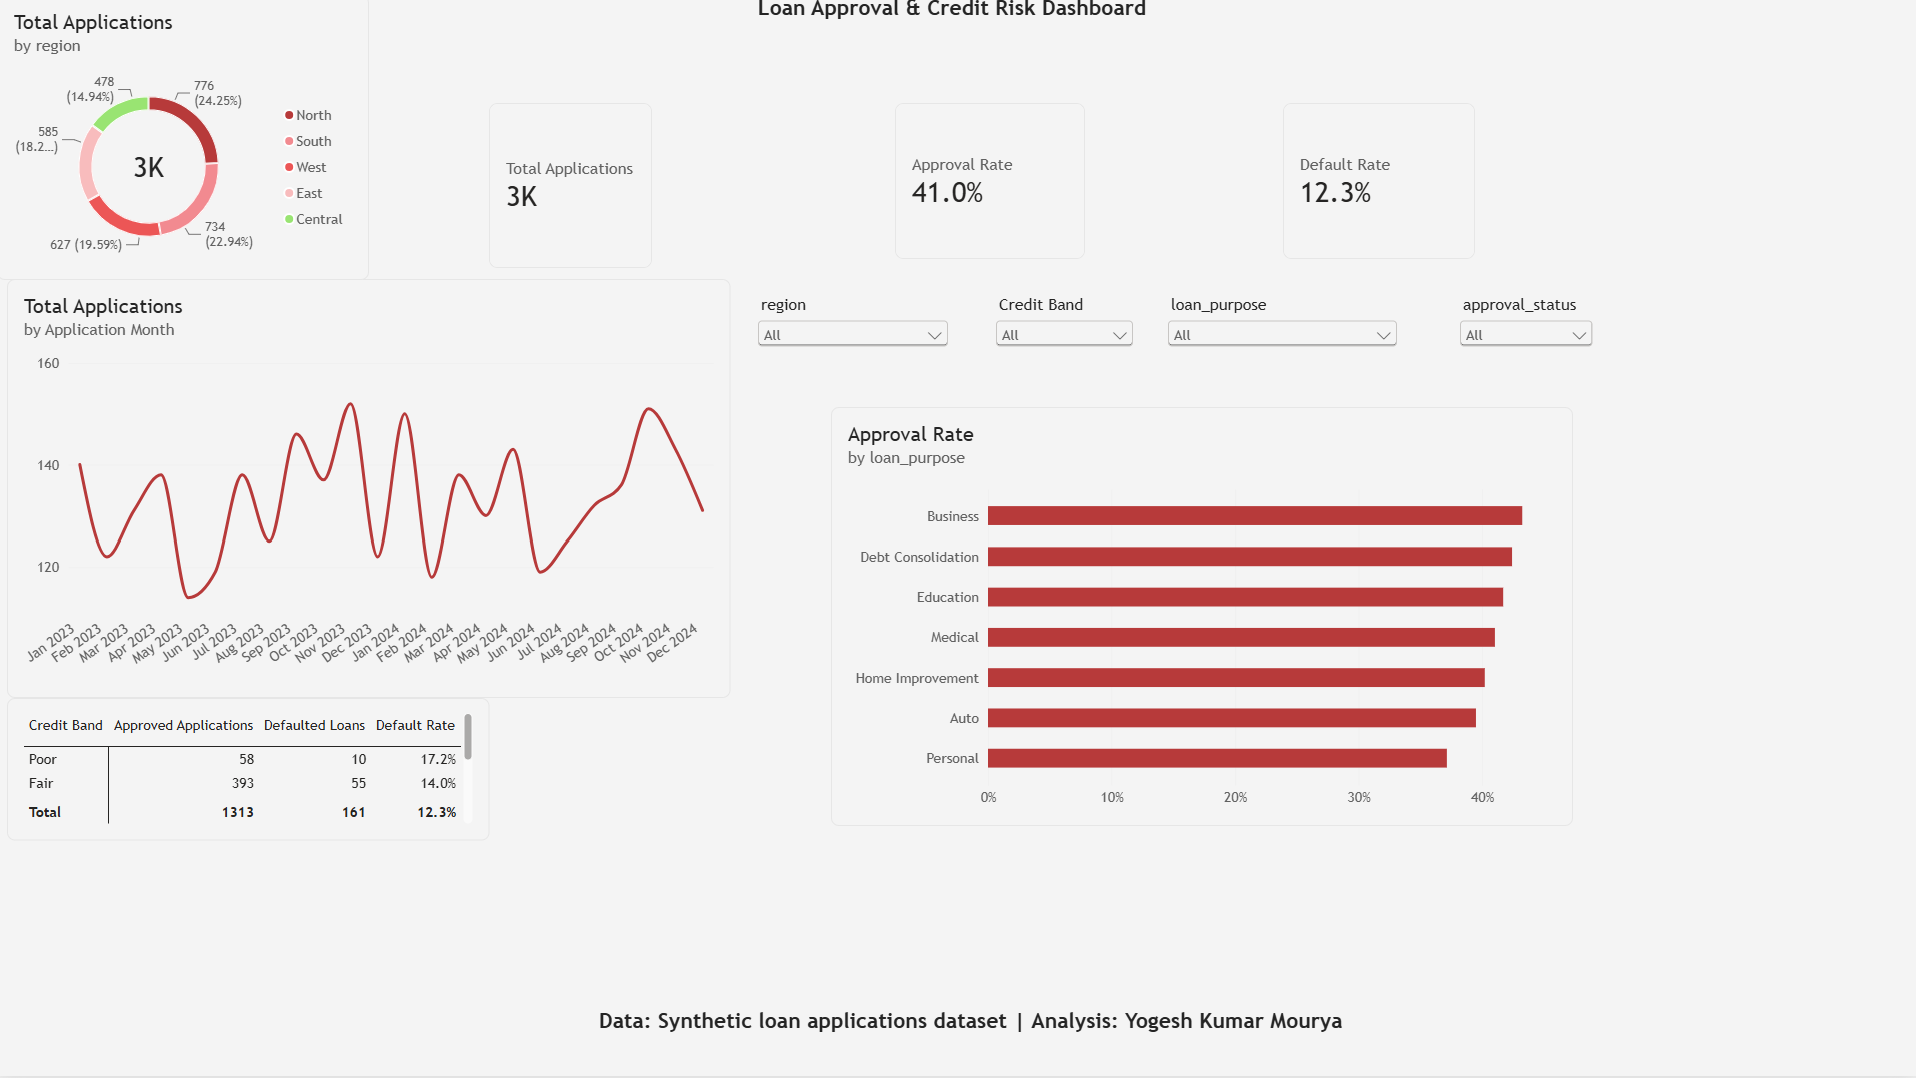

Layout of this report page (visuals, bound fields, positions):
{"tool":"powerbi","page":{"name":"Page 1","canvas":[1920,1080],"ordinal":0},"visuals":[{"type":"textbox","box":[9.2,0,1890.1,57.4],"z":0},{"type":"clusteredBarChart","fields":{"Category":["loan_applications_cleaned.loan_purpose"],"Y":["loan_applications_cleaned.Approval Rate"]},"box":[833.7,411.1,741.8,418],"z":2000},{"type":"lineChart","fields":{"Category":["loan_applications_cleaned.Application Month"],"Y":["loan_applications_cleaned.Total Applications"]},"box":[9.2,284.8,723.4,418],"z":3000},{"type":"donutChart","fields":{"Category":["loan_applications_cleaned.region"],"Y":["loan_applications_cleaned.Total Applications"]},"box":[0,0,372.1,284.8],"z":4000},{"type":"pivotTable","fields":{"Rows":["loan_applications_cleaned.Credit Band"],"Values":["loan_applications_cleaned.Approved Applications","loan_applications_cleaned.Defaulted Loans","loan_applications_cleaned.Default Rate"]},"box":[9.2,702.8,482.3,142.4],"z":5000},{"type":"slicer","fields":{"Values":["loan_applications_cleaned.region"]},"box":[755.6,300.9,199.8,238.9],"z":6000},{"type":"slicer","fields":{"Values":["loan_applications_cleaned.loan_purpose"]},"box":[1166.7,300.9,238.9,339.9],"z":7000},{"type":"slicer","fields":{"Values":["loan_applications_cleaned.Credit Band"]},"box":[994.4,300.9,147,220.5],"z":8000},{"type":"slicer","fields":{"Values":["loan_applications_cleaned.approval_status"]},"box":[1458.4,300.9,142.4,282.5],"z":9000},{"type":"textbox","box":[45.9,1012.8,1855.7,48.2],"z":10000},{"type":"cardVisual","fields":{"Data":["loan_applications_cleaned.Total Applications"]},"box":[491.5,107.9,163.1,165.4],"z":11000},{"type":"cardVisual","fields":{"Data":["loan_applications_cleaned.Approval Rate"]},"box":[898,107.9,190.6,156.2],"z":12000},{"type":"cardVisual","fields":{"Data":["loan_applications_cleaned.Default Rate"]},"box":[1286.1,107.9,192.9,156.2],"z":12001}]}

Visuals, with their boxes in screenshot pixels (x1, y1, x2, y2), scaled from the page's 1920x1080 canvas onto the 1916x1078 screenshot:
textbox: bbox=[9, 0, 1895, 57]
clusteredBarChart - loan_applications_cleaned.loan_purpose x loan_applications_cleaned.Approval Rate: bbox=[832, 410, 1572, 828]
lineChart - loan_applications_cleaned.Application Month x loan_applications_cleaned.Total Applications: bbox=[9, 284, 731, 701]
donutChart - loan_applications_cleaned.region x loan_applications_cleaned.Total Applications: bbox=[0, 0, 371, 284]
pivotTable - loan_applications_cleaned.Credit Band x loan_applications_cleaned.Approved Applications: bbox=[9, 701, 490, 844]
slicer - loan_applications_cleaned.region: bbox=[754, 300, 953, 539]
slicer - loan_applications_cleaned.loan_purpose: bbox=[1164, 300, 1403, 640]
slicer - loan_applications_cleaned.Credit Band: bbox=[992, 300, 1139, 520]
slicer - loan_applications_cleaned.approval_status: bbox=[1455, 300, 1597, 582]
textbox: bbox=[46, 1011, 1898, 1059]
cardVisual - loan_applications_cleaned.Total Applications: bbox=[490, 108, 653, 273]
cardVisual - loan_applications_cleaned.Approval Rate: bbox=[896, 108, 1086, 264]
cardVisual - loan_applications_cleaned.Default Rate: bbox=[1283, 108, 1476, 264]
